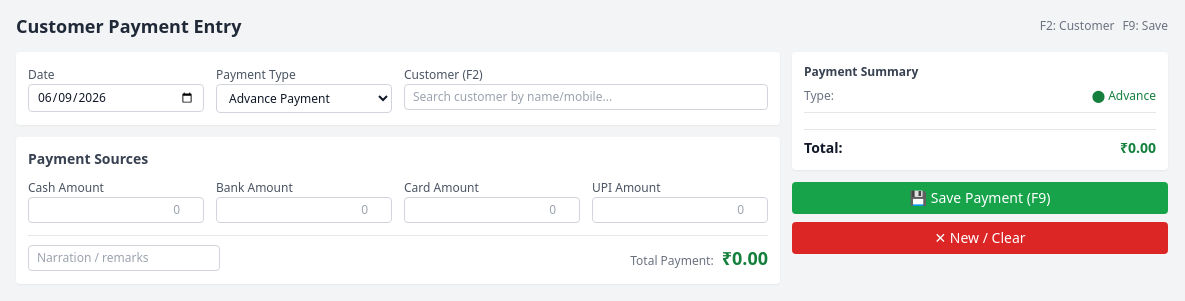
CustomerPaymentEntry › switches payment type to Due Payment
Select "Due Payment" in the dropdown at (304, 98), box [216,84,392,113]
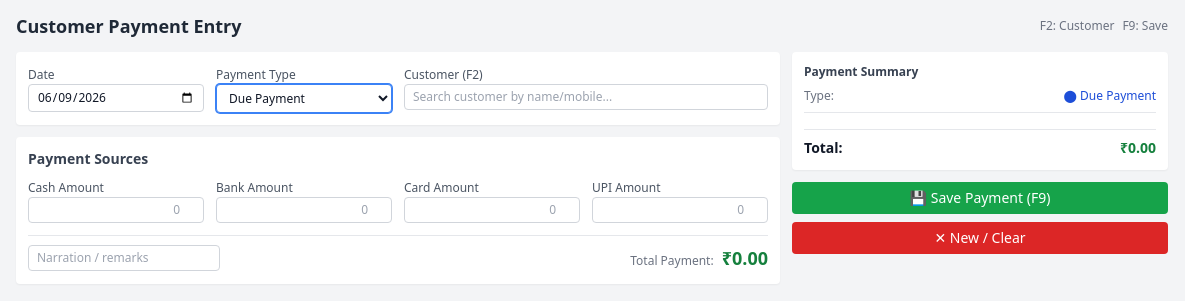
Now the text "⬤ Due Payment" is shown, box [1064,88,1156,104]
